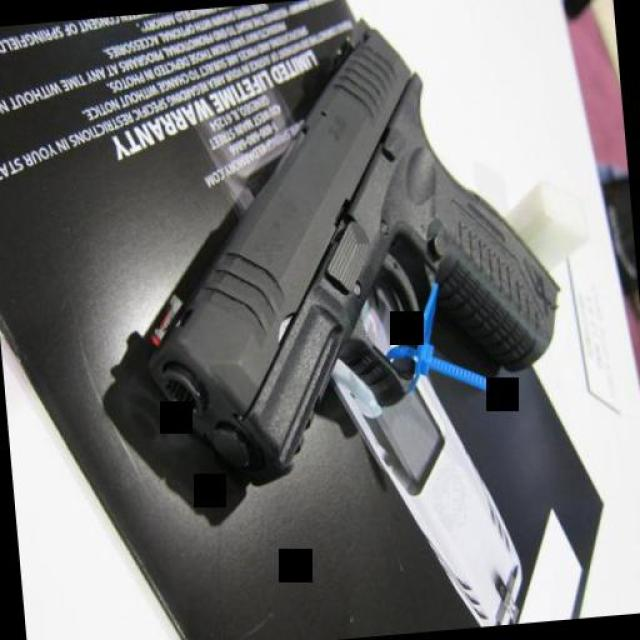gun: (118, 1, 572, 491)
